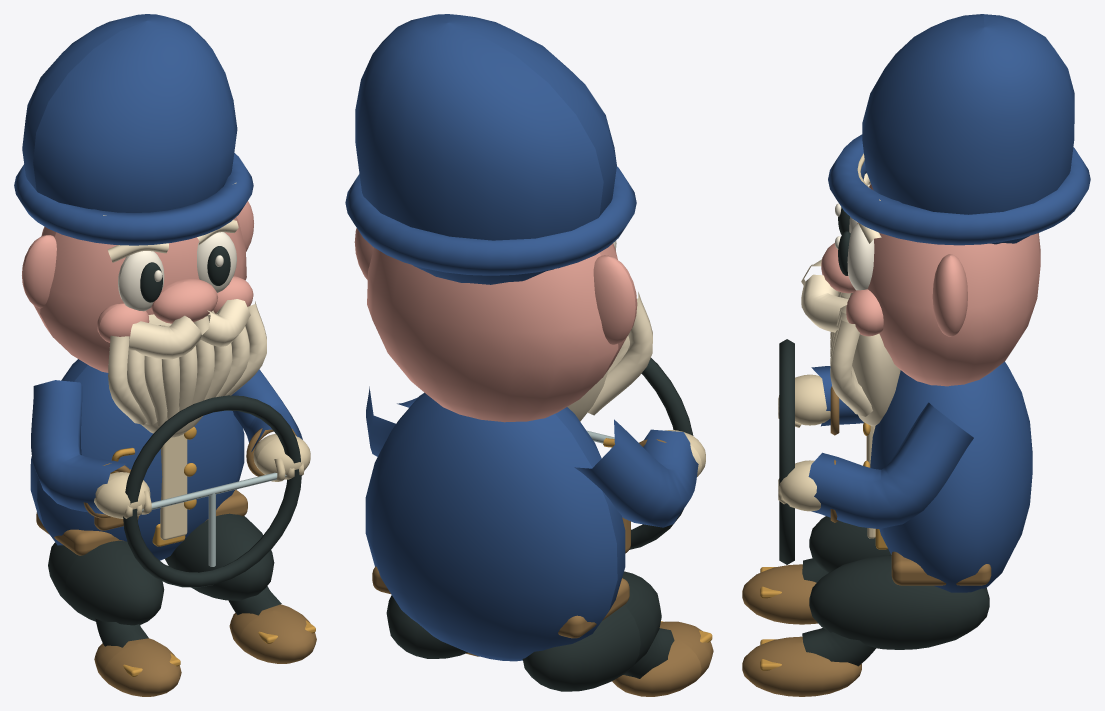
The model's file is bork-light.glb.
3 views of the same model, side by side, from view 1: azimuth 30°, elevation 25°; view 2: azimuth 150°, elevation 25°; view 3: azimuth 270°, elevation 25° (orthographic). The views are drawn at different scales.
Parts seen in each view (by area): view 1: blue_1, blue, skin, dark_body, ivory, leather, dark_steering, cream_steering, white, cream_body, steel_steering, dark_1 (+1 smaller); view 2: blue, blue_1, skin, dark_body, leather, ivory, dark_steering; view 3: blue_1, blue, skin, dark_body, leather, ivory, cream_steering, dark_steering, white, brass_body, dark_1.
Boxes of the visible parts, x1,y1,x2,y2 form: blue_1: (14,14,253,245); blue: (30,359,302,560); skin: (22,201,253,372); dark_body: (48,395,281,647); ivory: (107,220,266,437); leather: (36,428,316,696); dark_steering: (123,399,301,587); cream_steering: (94,433,310,518); white: (118,232,236,311); cream_body: (160,434,187,540); steel_steering: (142,472,286,566); dark_1: (140,246,230,302); blue: (365,386,698,661); blue_1: (345,14,636,284); skin: (354,228,637,422); dark_body: (386,367,681,691); leather: (372,439,713,696); ivory: (567,292,652,421); dark_steering: (629,358,693,549); blue_1: (828,14,1090,245); blue: (808,361,1032,592); skin: (821,184,1040,386); dark_body: (779,339,989,666); leather: (742,386,991,696); ivory: (801,173,900,426); cream_steering: (778,374,830,511); dark_steering: (779,387,794,564); white: (835,184,874,290); brass_body: (760,422,887,670); dark_1: (838,207,850,275).
Bounding box in the file's own units: 0.3219 × 0.71 × 0.3501.
